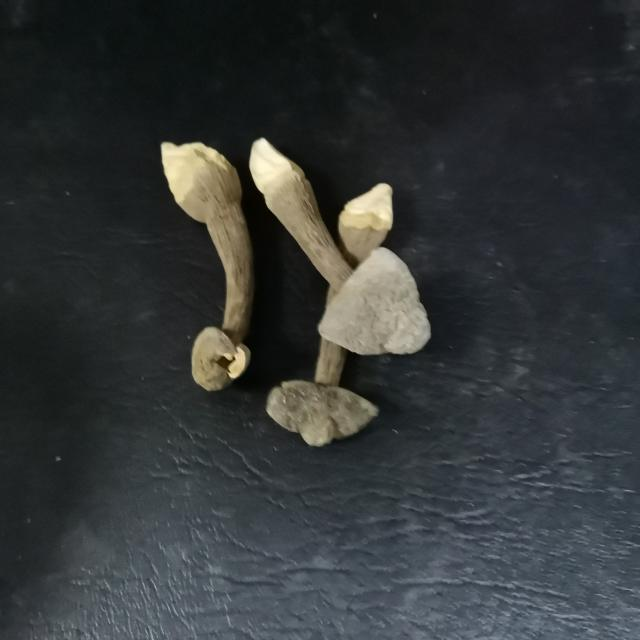Collybia albuminosa: (249, 134, 432, 355), (255, 181, 408, 445), (168, 141, 254, 383)
